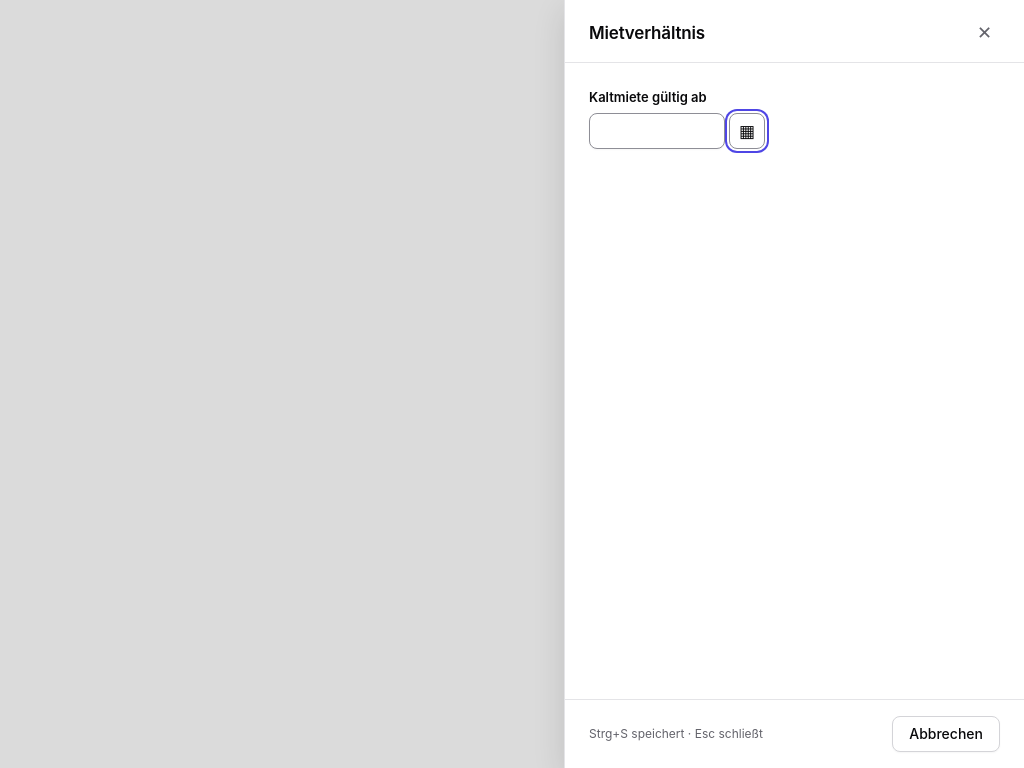
Monatsraster: Esc schließt nur das Raster, Fokus zurück, das Seitenfenster bleibt offen
The image size is (1024, 768).
Click the button named "Monat im Raster wählen" at (747, 132), box [729,114,765,150]
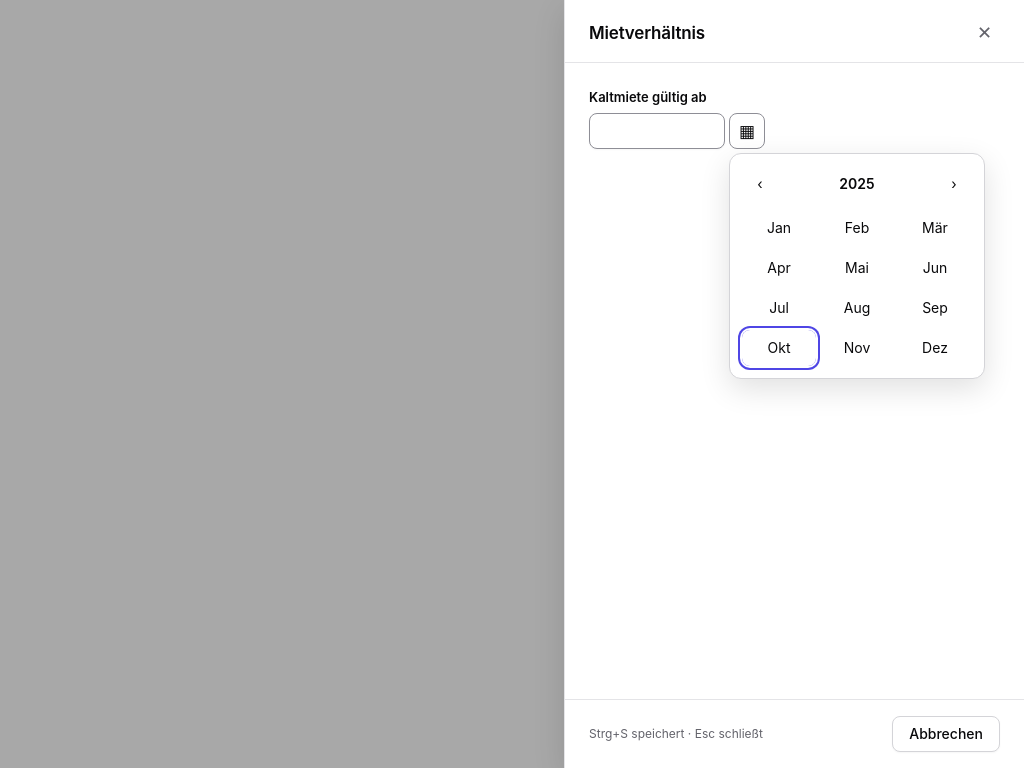
Click the cell named "Okt (Oktober 2025)" at (779, 348), box [742,330,816,366]
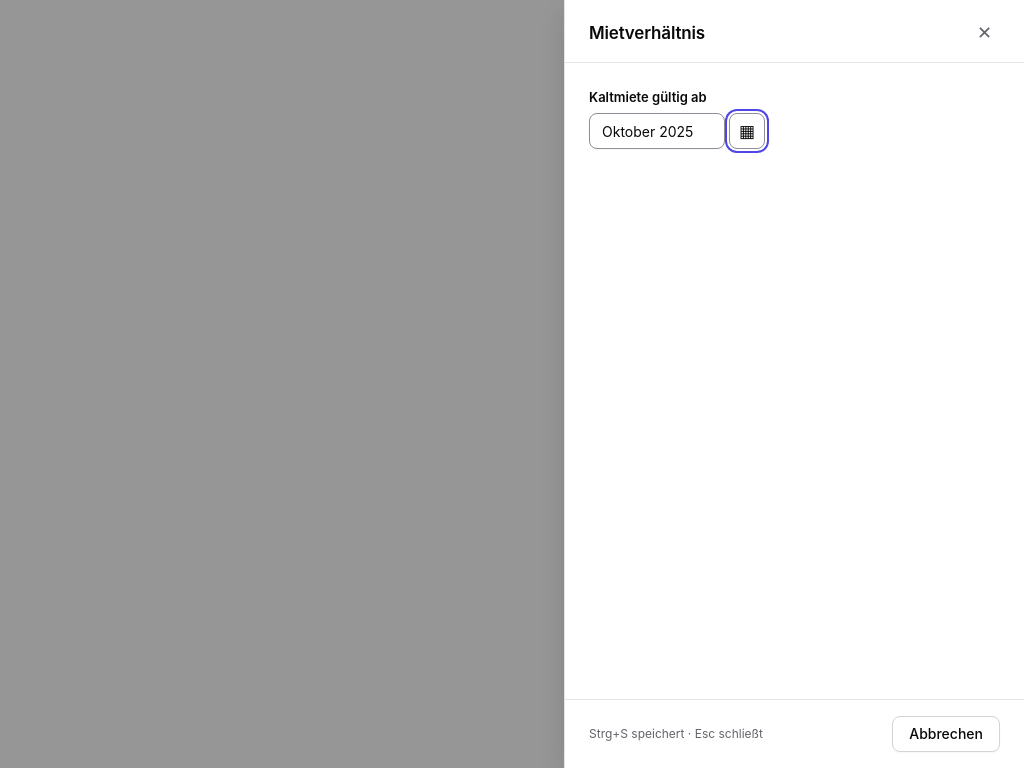
Click the button named "Monat im Raster wählen" at (747, 132), box [729,114,765,150]
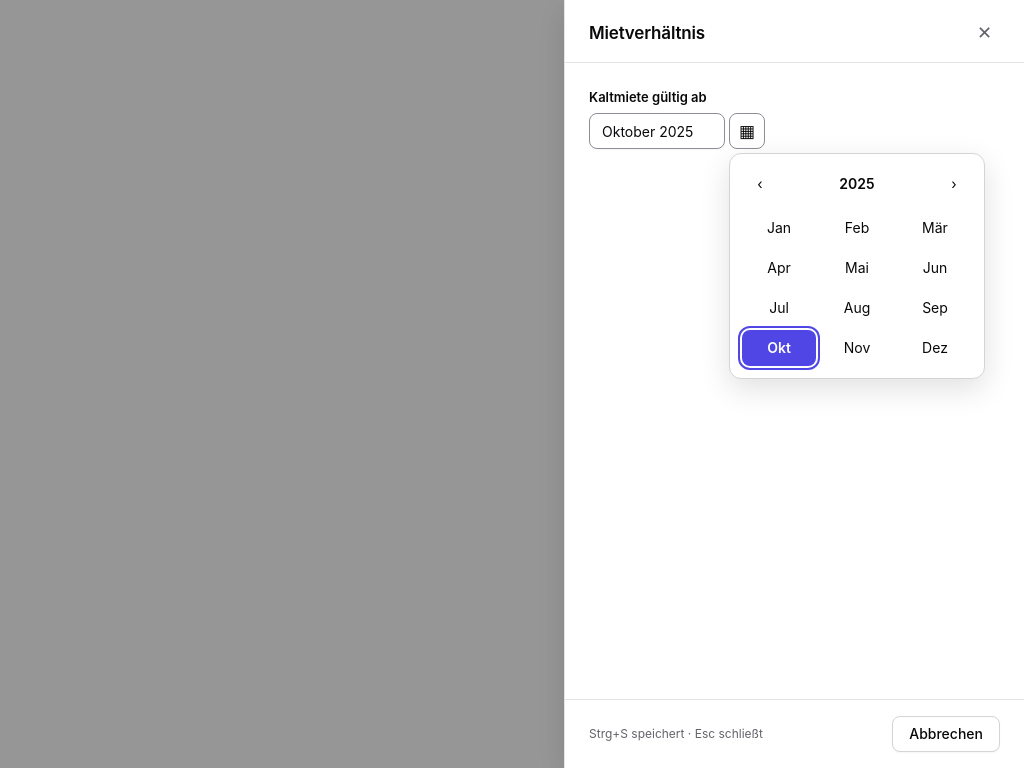
Press Escape in the cell "Okt", box [742,330,816,366]
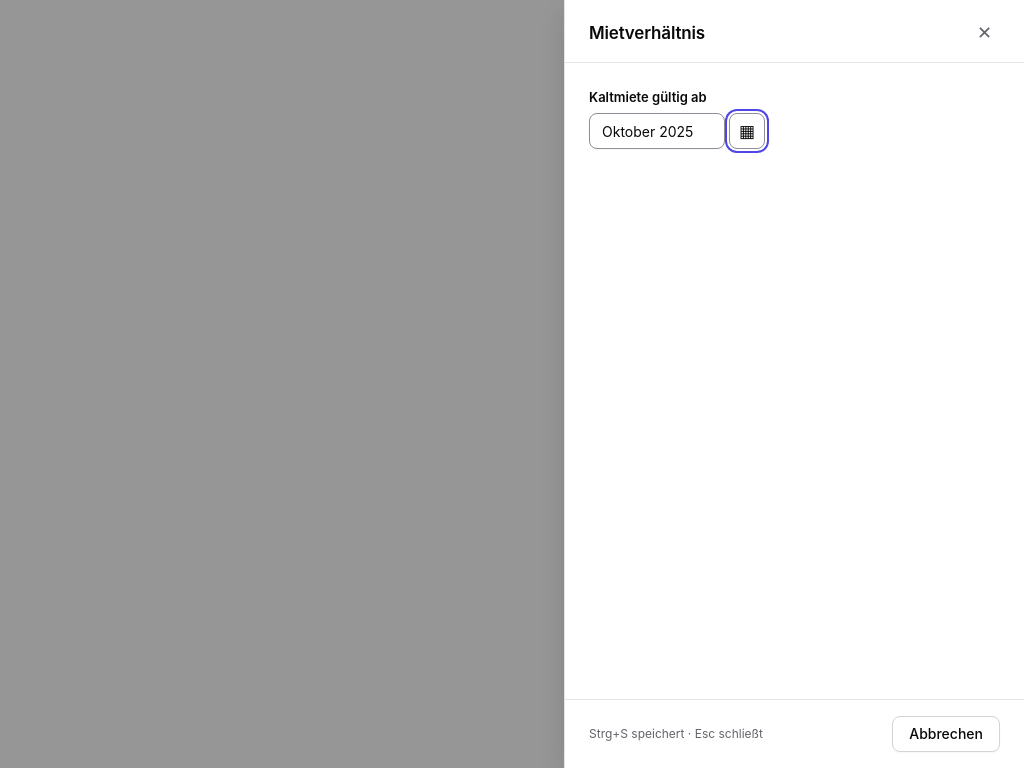
Result: the dialog "‹ 2025 › Jan Feb Mär Apr Mai Jun Jul Aug Sep Okt Nov Dez" is gone
